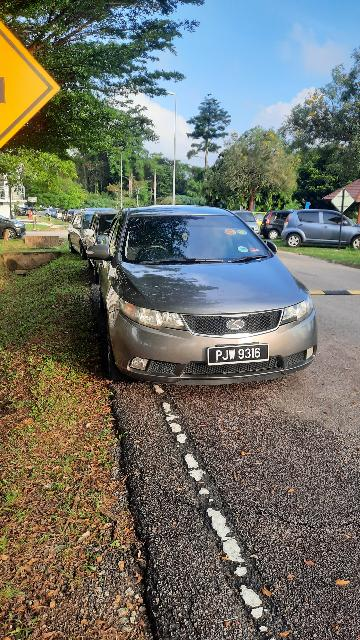License_Plate: (204, 345, 272, 366)
car: (84, 200, 318, 391), (283, 201, 360, 252), (258, 205, 301, 242)
